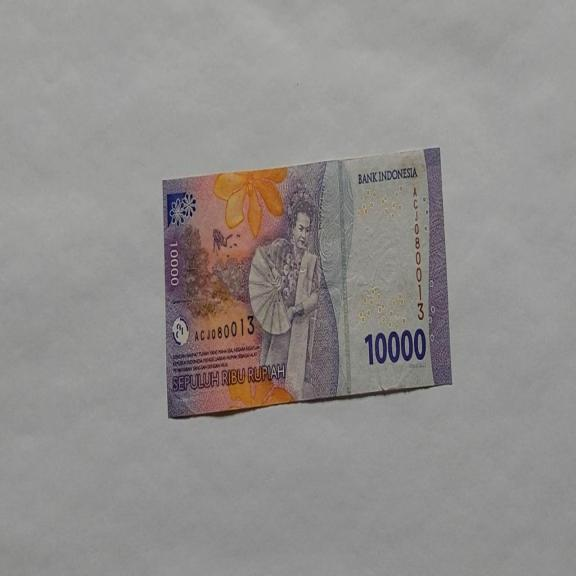Kertas: (162, 145, 452, 419), (364, 326, 426, 365)
